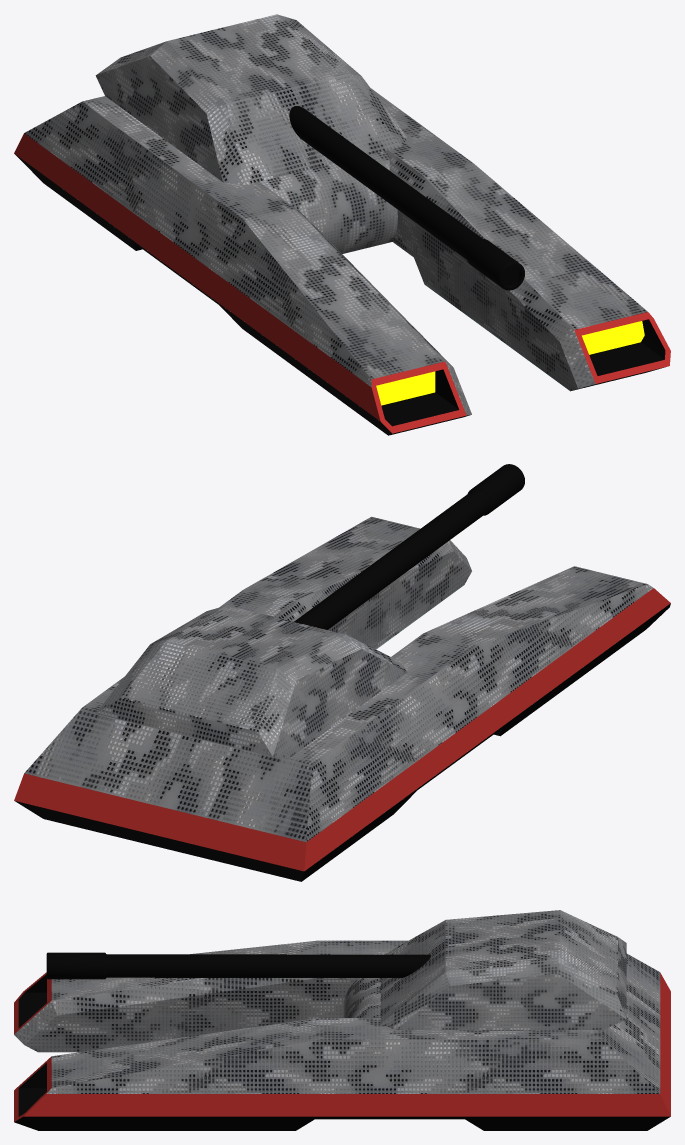
File: artillerie_boreale.glb
The picture shows the model from 3 angles, top to bottom: view 1: azimuth 30°, elevation 25°; view 2: azimuth 150°, elevation 25°; view 3: azimuth 270°, elevation 25°; orthographic projection. The views are drawn at different scales.
Parts seen in each view (by area): view 1: Hull, Lightning.004, Stripe, Barrel, Shelf, Bezel, Rocker, Lights; view 2: Hull, Lightning.004, Stripe, Barrel, Rocker; view 3: Hull, Lightning.004, Stripe, Barrel, Rocker, Shelf, Bezel.
Boxes of the visible parts, x1,y1,x2,y2 form: Hull: (24,88,647,415); Lightning.004: (95,14,406,184); Stripe: (14,133,380,421); Barrel: (289,106,524,290); Shelf: (381,319,665,426); Bezel: (371,312,670,433); Rocker: (14,153,665,435); Lights: (376,321,644,405); Hull: (24,516,653,842); Lightning.004: (96,605,406,758); Stripe: (14,588,670,871); Barrel: (294,464,524,629); Rocker: (15,603,670,881); Hull: (14,940,660,1093); Lightning.004: (380,910,626,1029); Stripe: (23,973,670,1116); Barrel: (46,952,430,979); Rocker: (14,1116,670,1130); Shelf: (18,974,46,1116); Bezel: (14,972,51,1121).
Bounding box in the file's own units: 3.15 × 1.66 × 6.99.
5 materials, 1 textured.
